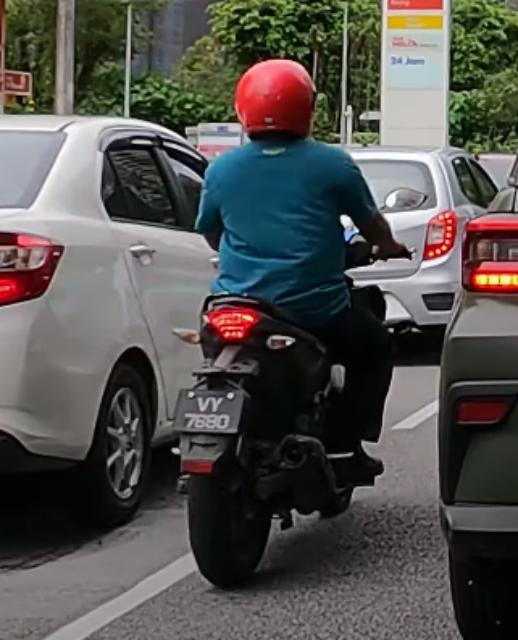License_Plate: (180, 393, 239, 436)
motorcycle: (170, 218, 418, 589)
